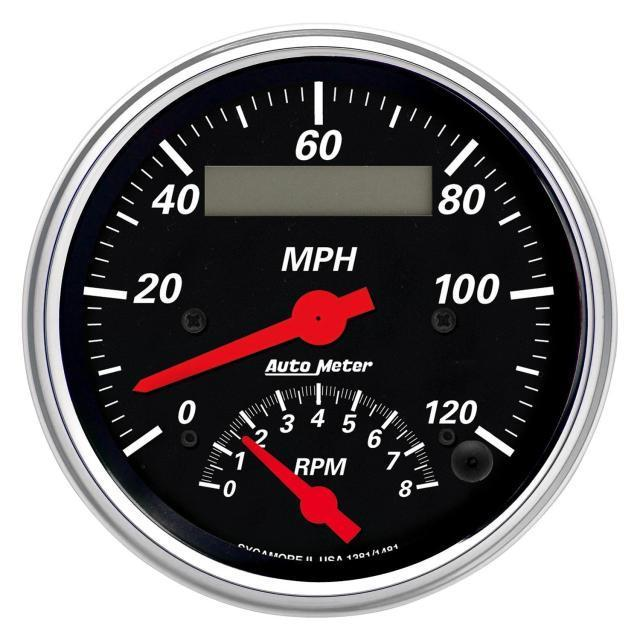Needle_Tip: (112, 362, 185, 411)
Needle_base: (290, 281, 350, 354)
max_value: (408, 388, 493, 438)
min_value: (155, 397, 227, 430)
